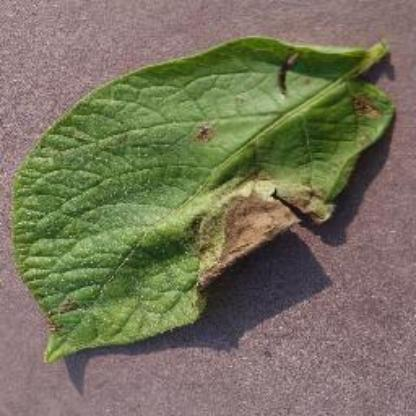Late-Blight: (10, 33, 396, 361)
